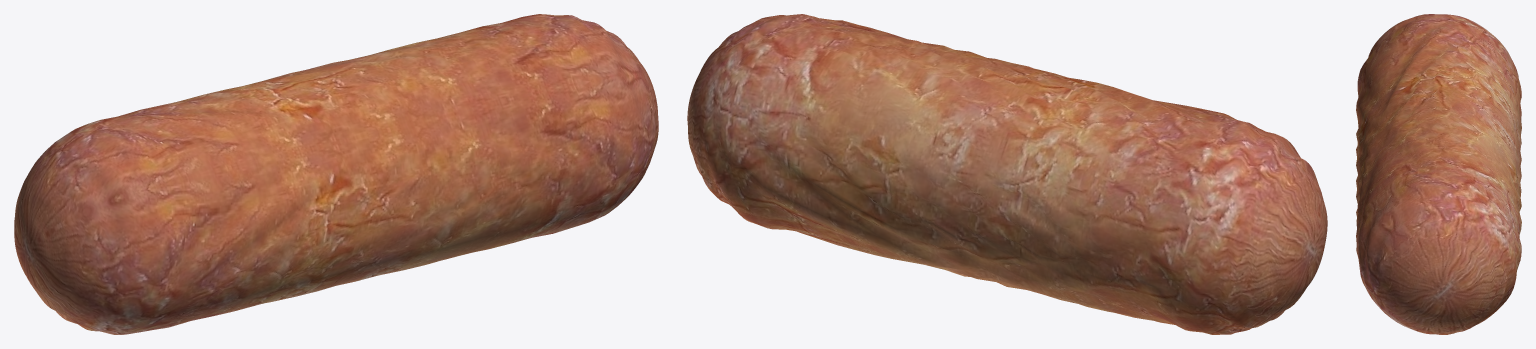
Rendered from ColdCuttingExodermis.obj.
3 views of the same model, side by side, from view 1: azimuth 30°, elevation 25°; view 2: azimuth 150°, elevation 25°; view 3: azimuth 270°, elevation 25° (orthographic). The views are drawn at different scales.
Visible parts, largest first — view 1: ColdCuttingExodermis; view 2: ColdCuttingExodermis; view 3: ColdCuttingExodermis.
Boxes of the visible parts, x1,y1,x2,y2 form: ColdCuttingExodermis: (14,14,658,334); ColdCuttingExodermis: (687,14,1327,334); ColdCuttingExodermis: (1356,14,1521,334).
Bounding box in the file's own units: 0.2047 × 0.0635 × 0.0635.
Materials: 1 (1 with a texture image).
